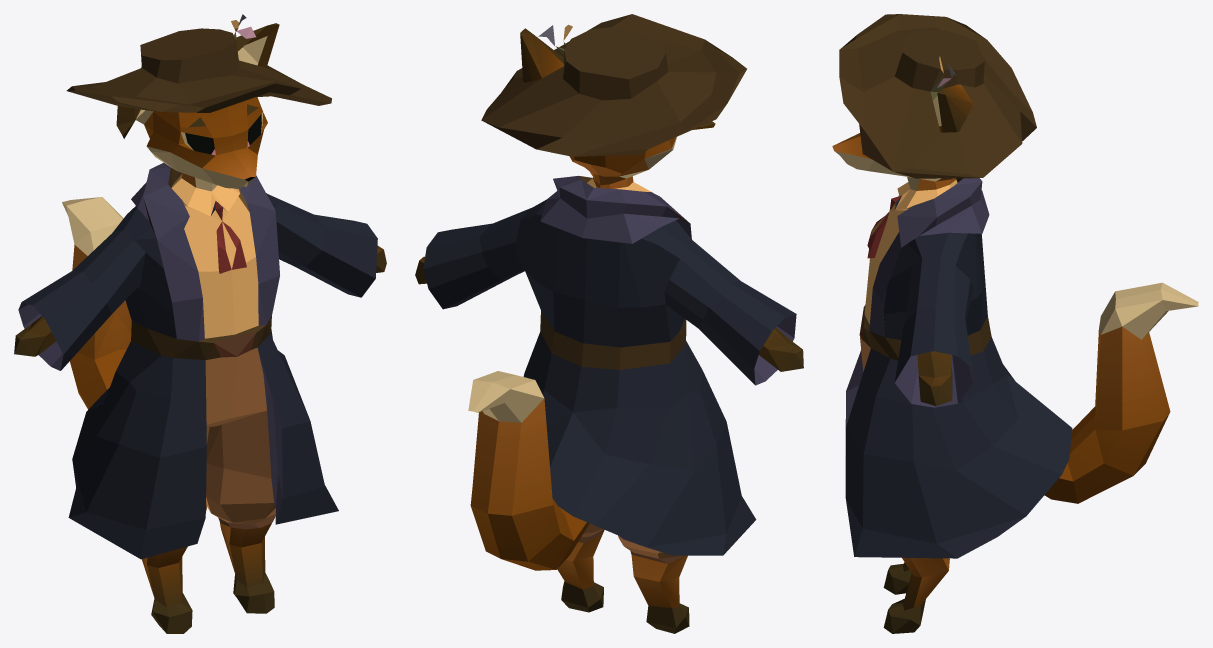
Rendered from VulpeuclaModel_LOWPOLY_Textured_VERTSEDITED.fbx.
3 views of the same model, side by side, from view 1: azimuth 30°, elevation 25°; view 2: azimuth 150°, elevation 25°; view 3: azimuth 270°, elevation 25° (orthographic). The views are drawn at different scales.
Parts seen in each view (by area): view 1: Body; view 2: Body; view 3: Body.
Part boxes in pixels (box(x1,y1,x2,y2)): Body: box(14, 14, 386, 633); Body: box(415, 14, 803, 633); Body: box(832, 14, 1198, 633).
Bounding box in the file's own units: 876 × 1287 × 751.
